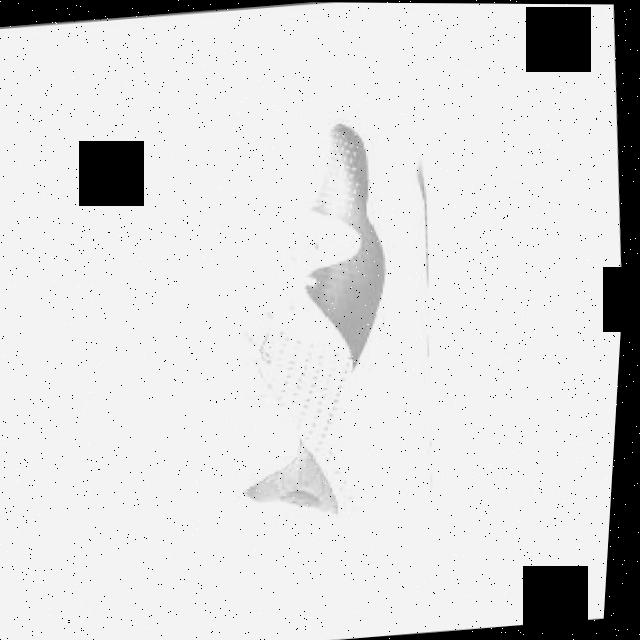shoe: (147, 98, 460, 544)
